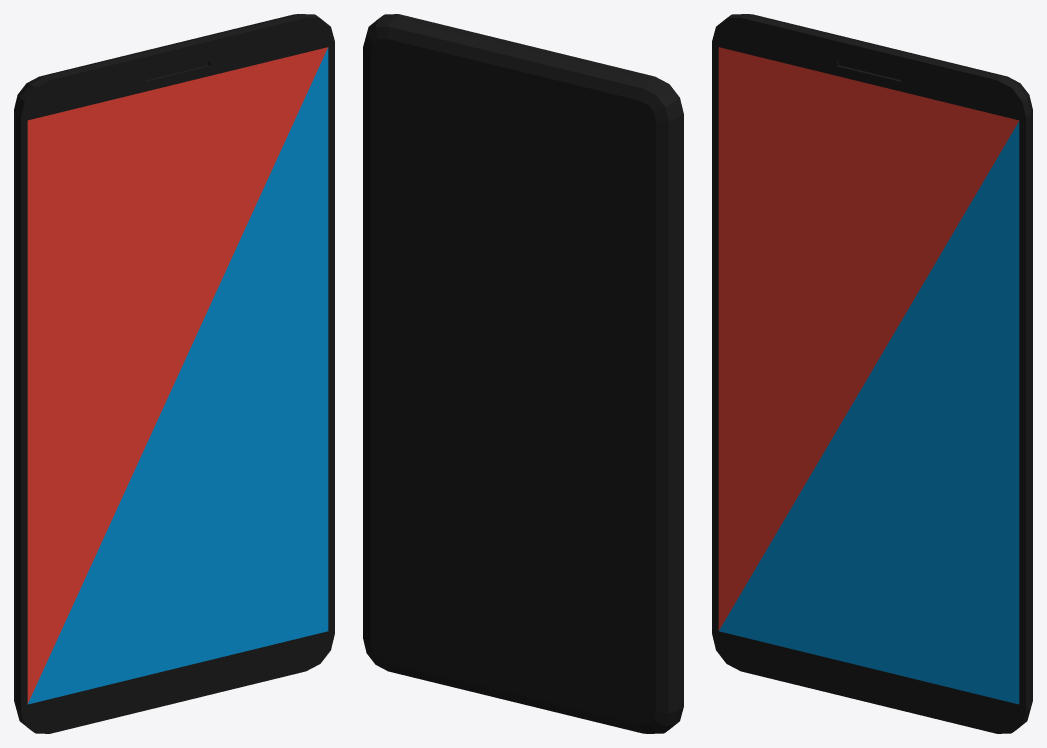
Rendered from Phone_01.obj.
3 renders of one model, left to right at view 1: azimuth 30°, elevation 25°; view 2: azimuth 150°, elevation 25°; view 3: azimuth 330°, elevation 25°, orthographic.
Visible parts, largest first — view 1: Phone_01_Cube.037; view 2: Phone_01_Cube.037; view 3: Phone_01_Cube.037.
Part boxes in pixels (left/top/right/bottom): Phone_01_Cube.037: left=14, top=14, right=334, bottom=733; Phone_01_Cube.037: left=363, top=14, right=683, bottom=733; Phone_01_Cube.037: left=712, top=14, right=1032, bottom=733.
Size of the model in its own units: 4.91 by 9.76 by 0.3608.
